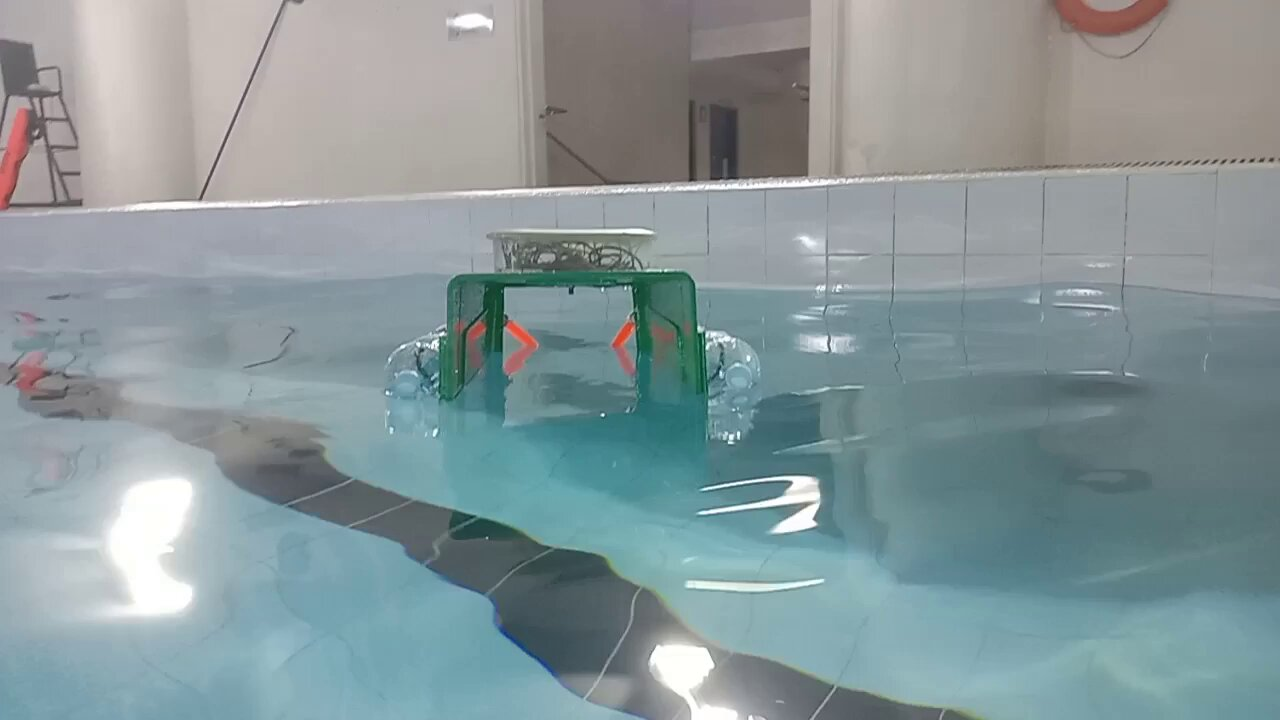drone: (380, 221, 763, 422)
